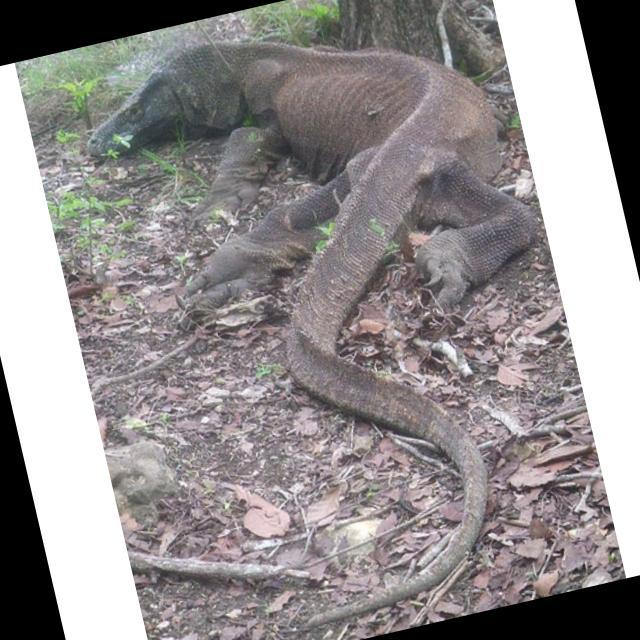KomodoDragon: (64, 0, 615, 640)
